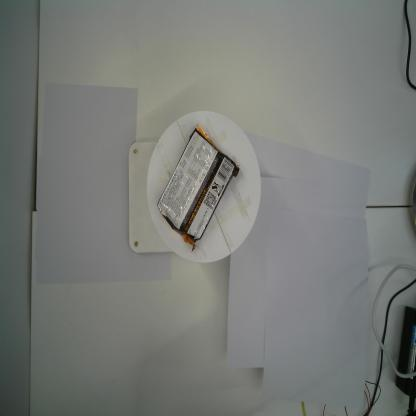Dessert: (155, 120, 242, 255)
